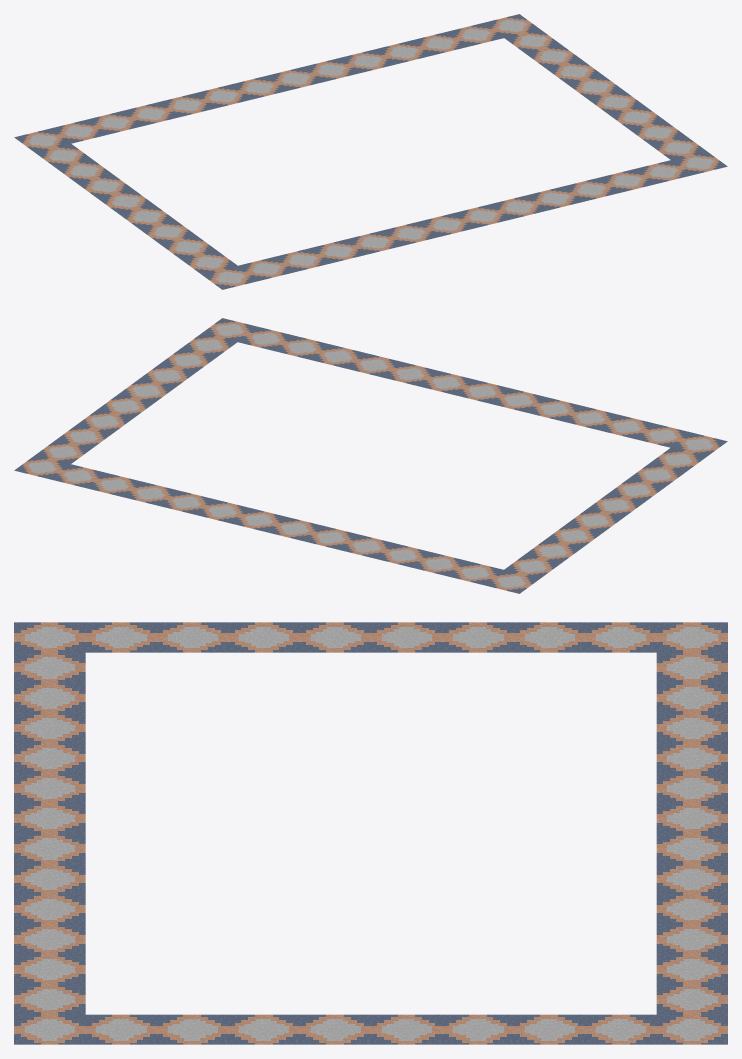
File: kd_stage_135ded_4_44_exterior.glb
3 renders of one model, top to bottom at view 1: azimuth 30°, elevation 25°; view 2: azimuth 150°, elevation 25°; view 3: azimuth 270°, elevation 25°, orthographic. The views are drawn at different scales.
Parts seen in each view (by area): view 1: kd_stage_135ded_4_44_exterior; view 2: kd_stage_135ded_4_44_exterior; view 3: kd_stage_135ded_4_44_exterior.
Boxes of the visible parts, x1,y1,x2,y2 form: kd_stage_135ded_4_44_exterior: [14, 14, 727, 289]; kd_stage_135ded_4_44_exterior: [14, 318, 727, 593]; kd_stage_135ded_4_44_exterior: [14, 622, 727, 1044].
Size of the model in its own units: 3.51 by 0.000135 by 2.51.
1 material, 1 textured.
